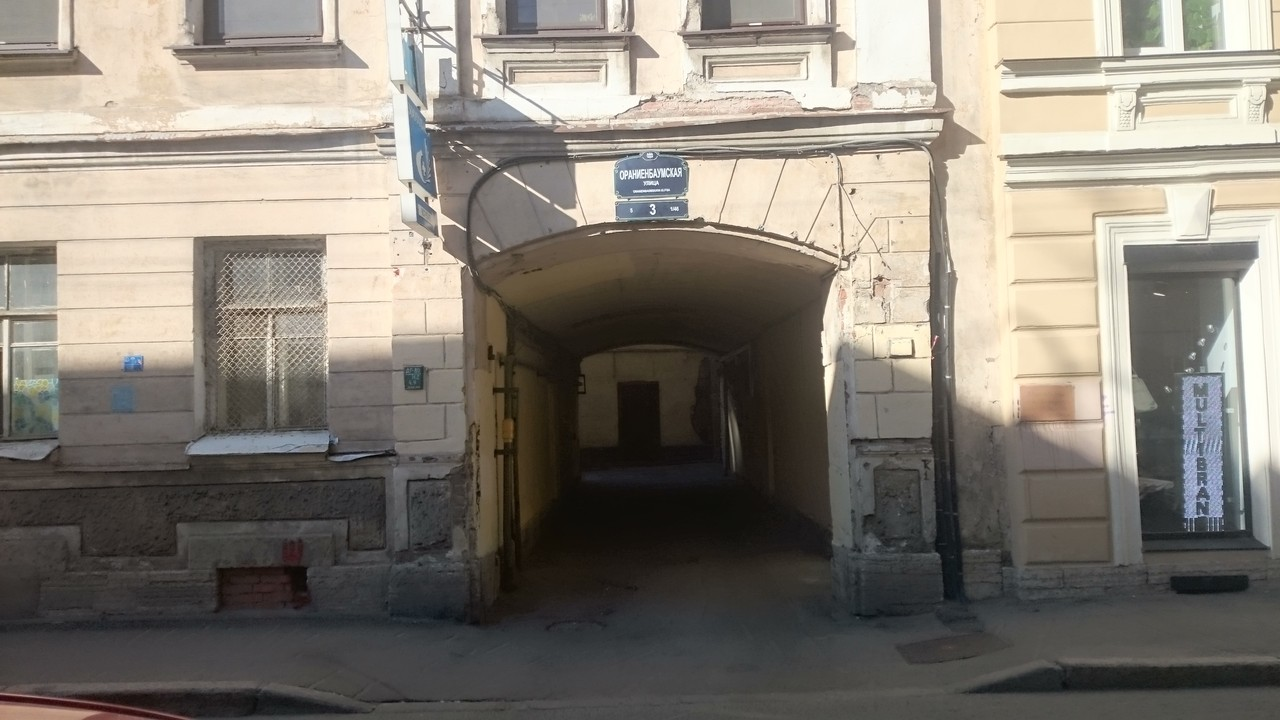arch: (459, 218, 855, 615)
cantilever: (392, 1, 453, 240)
window: (1132, 253, 1245, 559), (203, 239, 329, 434)
